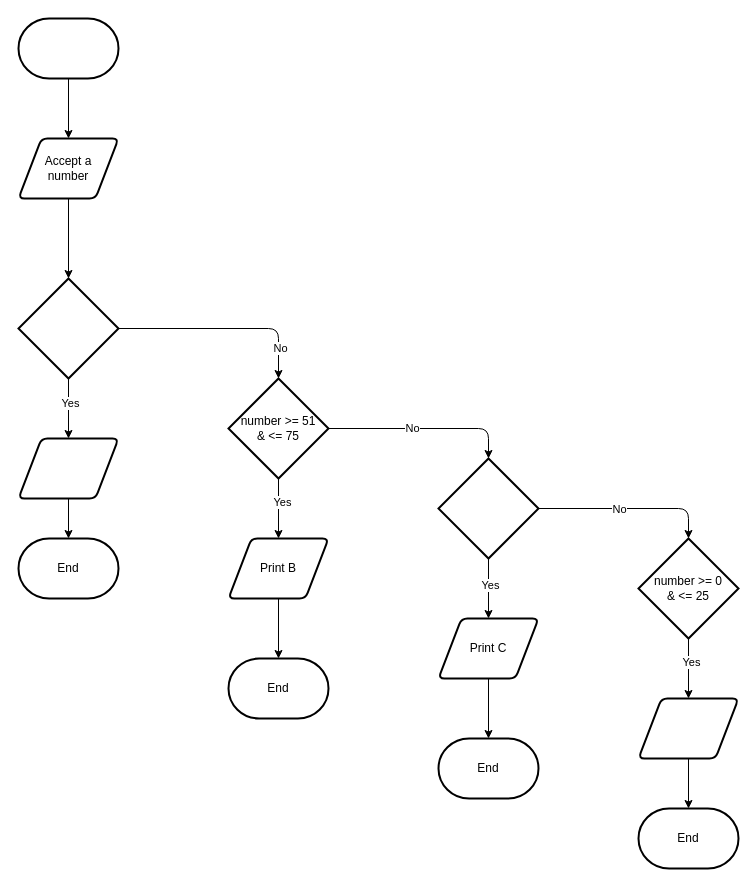
Image size: 756x886. Some labels were removed from this diagram. The shapes that lost their labels are listed below. From the top down, each one's centre as x and y in pixels, then its label:
At pixel 68 48: "Start".
At pixel 68 328: "number >= 76 & <= 100".
At pixel 68 468: "Print A".
At pixel 488 508: "number >= 26 & <= 50".
At pixel 688 728: "Print D".
